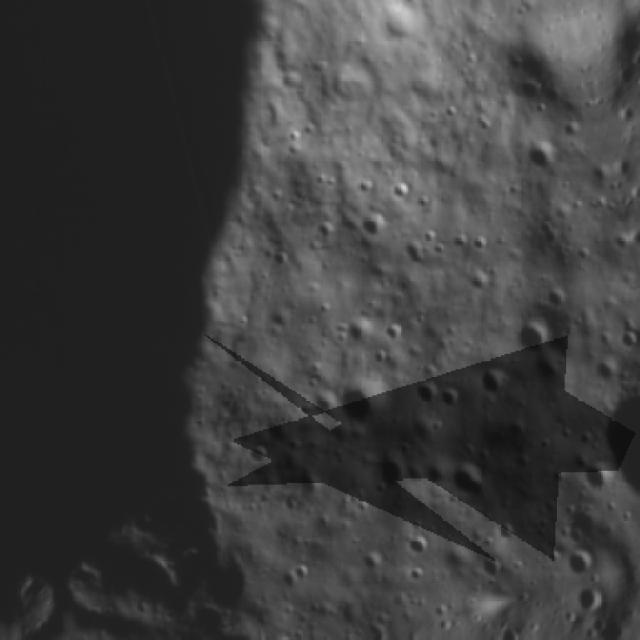crater: (589, 368, 640, 528), (118, 537, 193, 620), (331, 370, 407, 433), (446, 450, 502, 513), (549, 540, 611, 585), (375, 0, 430, 48), (572, 455, 618, 510), (363, 452, 414, 499), (400, 525, 445, 572), (476, 362, 516, 406), (526, 136, 560, 182), (513, 321, 549, 362), (402, 236, 431, 278), (540, 280, 574, 315), (474, 556, 506, 592), (467, 228, 499, 264), (287, 558, 321, 591), (380, 319, 414, 352), (434, 383, 469, 414), (244, 436, 278, 467), (343, 313, 375, 345), (585, 158, 613, 193), (249, 627, 313, 640), (572, 244, 599, 273), (387, 175, 415, 202), (618, 324, 640, 358), (268, 245, 297, 270), (588, 356, 614, 382), (516, 80, 542, 106), (561, 120, 584, 148), (416, 381, 439, 408), (414, 188, 437, 212), (608, 233, 632, 255), (356, 174, 378, 198), (420, 226, 442, 246), (430, 241, 453, 259), (450, 233, 470, 253), (284, 126, 304, 146), (532, 100, 552, 118)
